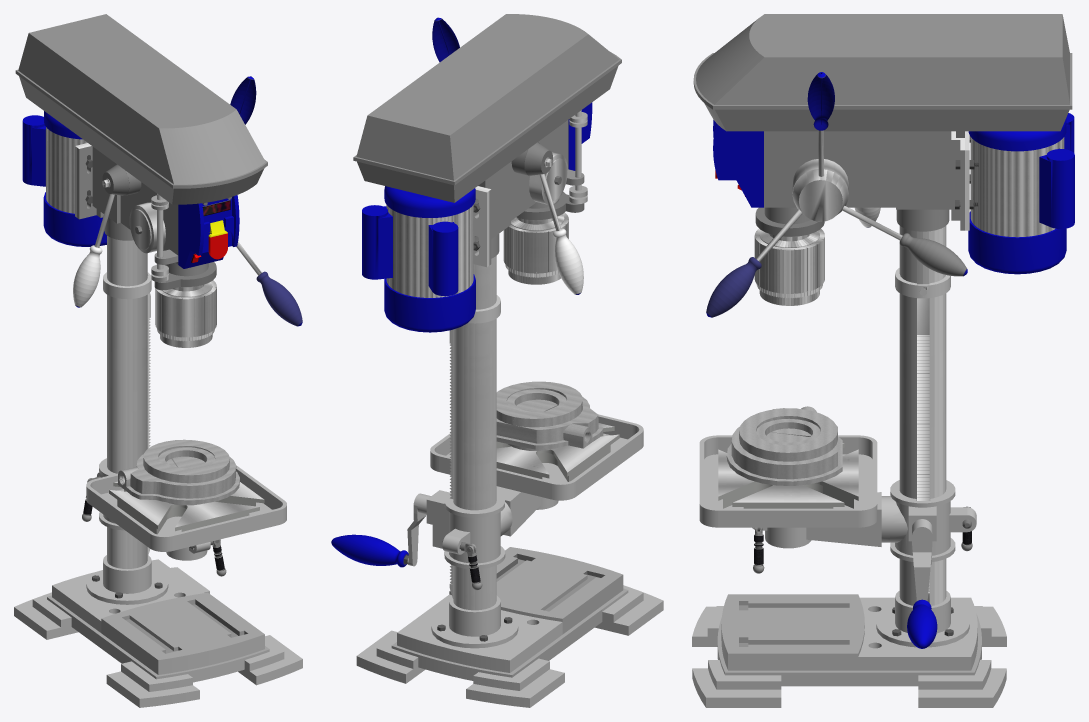
3 views of the same model, side by side, from view 1: azimuth 30°, elevation 25°; view 2: azimuth 150°, elevation 25°; view 3: azimuth 270°, elevation 25° (orthographic). The views are drawn at different scales.
Parts seen in each view (by area): view 1: 01, 04, 3, 03, 02.001, 1.001; view 2: 01, 04, 3, 03, 02.001, 1.001; view 3: 01, 04, 02.001, 3, 03, 1.001.
Boxes of the visible parts, x1,y1,x2,y2 form: 01: [14, 14, 302, 707]; 04: [82, 458, 286, 576]; 3: [117, 439, 239, 505]; 03: [155, 280, 216, 347]; 02.001: [230, 76, 302, 326]; 1.001: [158, 447, 214, 469]; 01: [353, 14, 663, 707]; 04: [331, 414, 643, 590]; 3: [496, 381, 603, 450]; 03: [503, 212, 568, 284]; 02.001: [432, 17, 459, 62]; 1.001: [506, 389, 566, 412]; 01: [692, 14, 1074, 707]; 04: [699, 435, 976, 648]; 02.001: [706, 72, 967, 317]; 3: [726, 406, 842, 485]; 03: [754, 228, 824, 305]; 1.001: [756, 418, 820, 445].
Bounding box in the file's own units: 147 × 360 × 197.
Materials: 37 (10 with a texture image).
